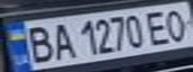0: (124, 11, 148, 48)
1: (75, 17, 96, 56)
2: (93, 15, 115, 53)
7: (109, 12, 130, 52)
A: (48, 20, 75, 61)
B: (21, 22, 57, 64)
E: (142, 8, 175, 46)
O: (160, 7, 190, 43)
